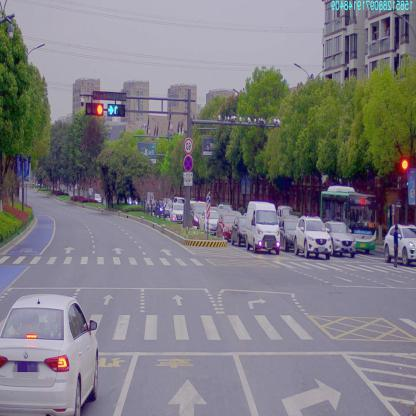traffic-light: (85, 102, 105, 118), (108, 104, 126, 117)
